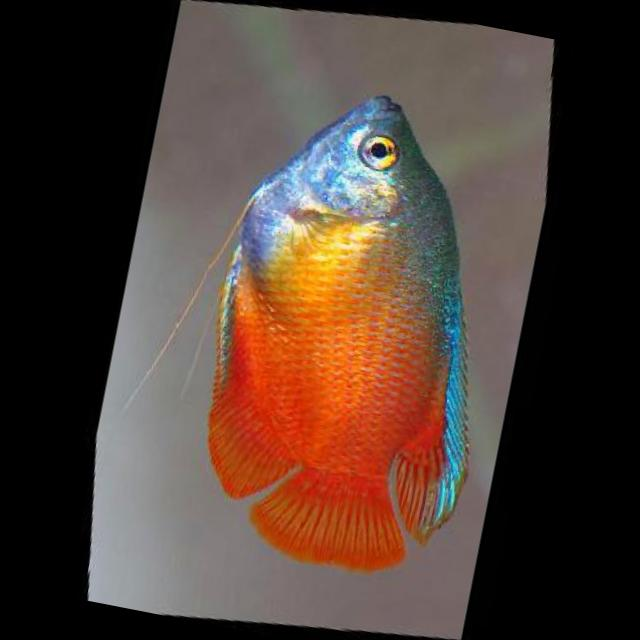Gourami: (177, 74, 538, 587)
